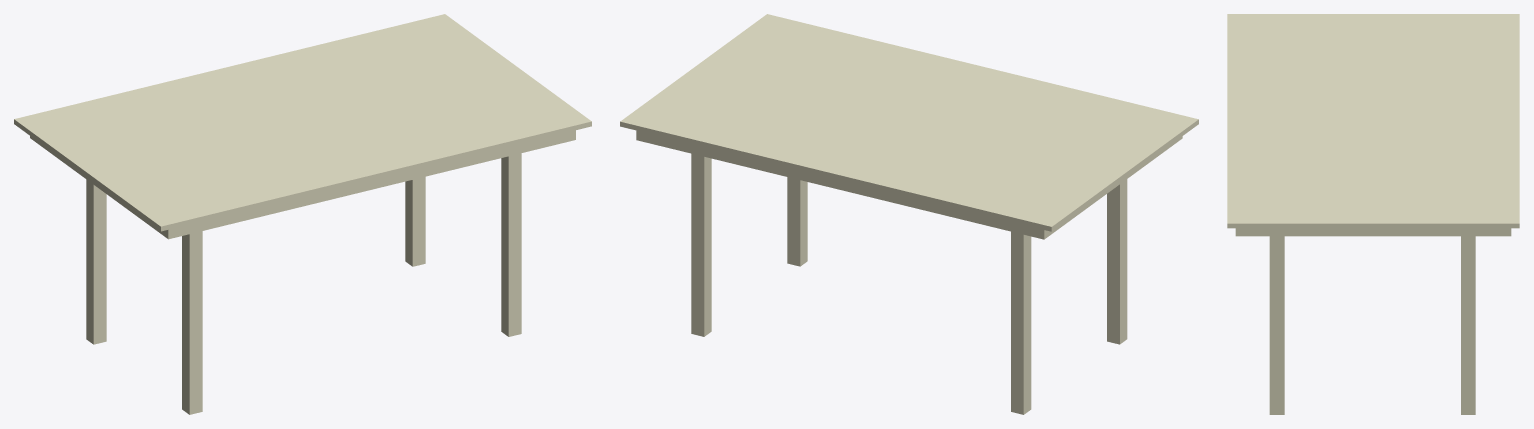
The model's file is table_v2.fbx.
3 renders of one model, left to right at view 1: azimuth 30°, elevation 25°; view 2: azimuth 150°, elevation 25°; view 3: azimuth 270°, elevation 25°, orthographic.
Visible parts, largest first — view 1: Cube, Cube_004, Cube_003, Cube_001, Cube_002; view 2: Cube, Cube_002, Cube_001, Cube_004, Cube_003; view 3: Cube, Cube_003, Cube_002.
Part boxes in pixels (left/top/right/bottom): Cube: left=14, top=14, right=591, bottom=239; Cube_004: left=182, top=231, right=202, bottom=414; Cube_003: left=501, top=153, right=521, bottom=336; Cube_001: left=86, top=179, right=106, bottom=344; Cube_002: left=405, top=176, right=425, bottom=266; Cube: left=620, top=14, right=1198, bottom=239; Cube_002: left=691, top=153, right=711, bottom=336; Cube_001: left=1011, top=231, right=1031, bottom=414; Cube_004: left=1107, top=179, right=1127, bottom=344; Cube_003: left=787, top=177, right=807, bottom=266; Cube: left=1227, top=14, right=1519, bottom=236; Cube_003: left=1269, top=236, right=1284, bottom=414; Cube_002: left=1461, top=236, right=1475, bottom=414.
Bounding box in the file's own units: 6.56 × 3.14 × 3.87.
